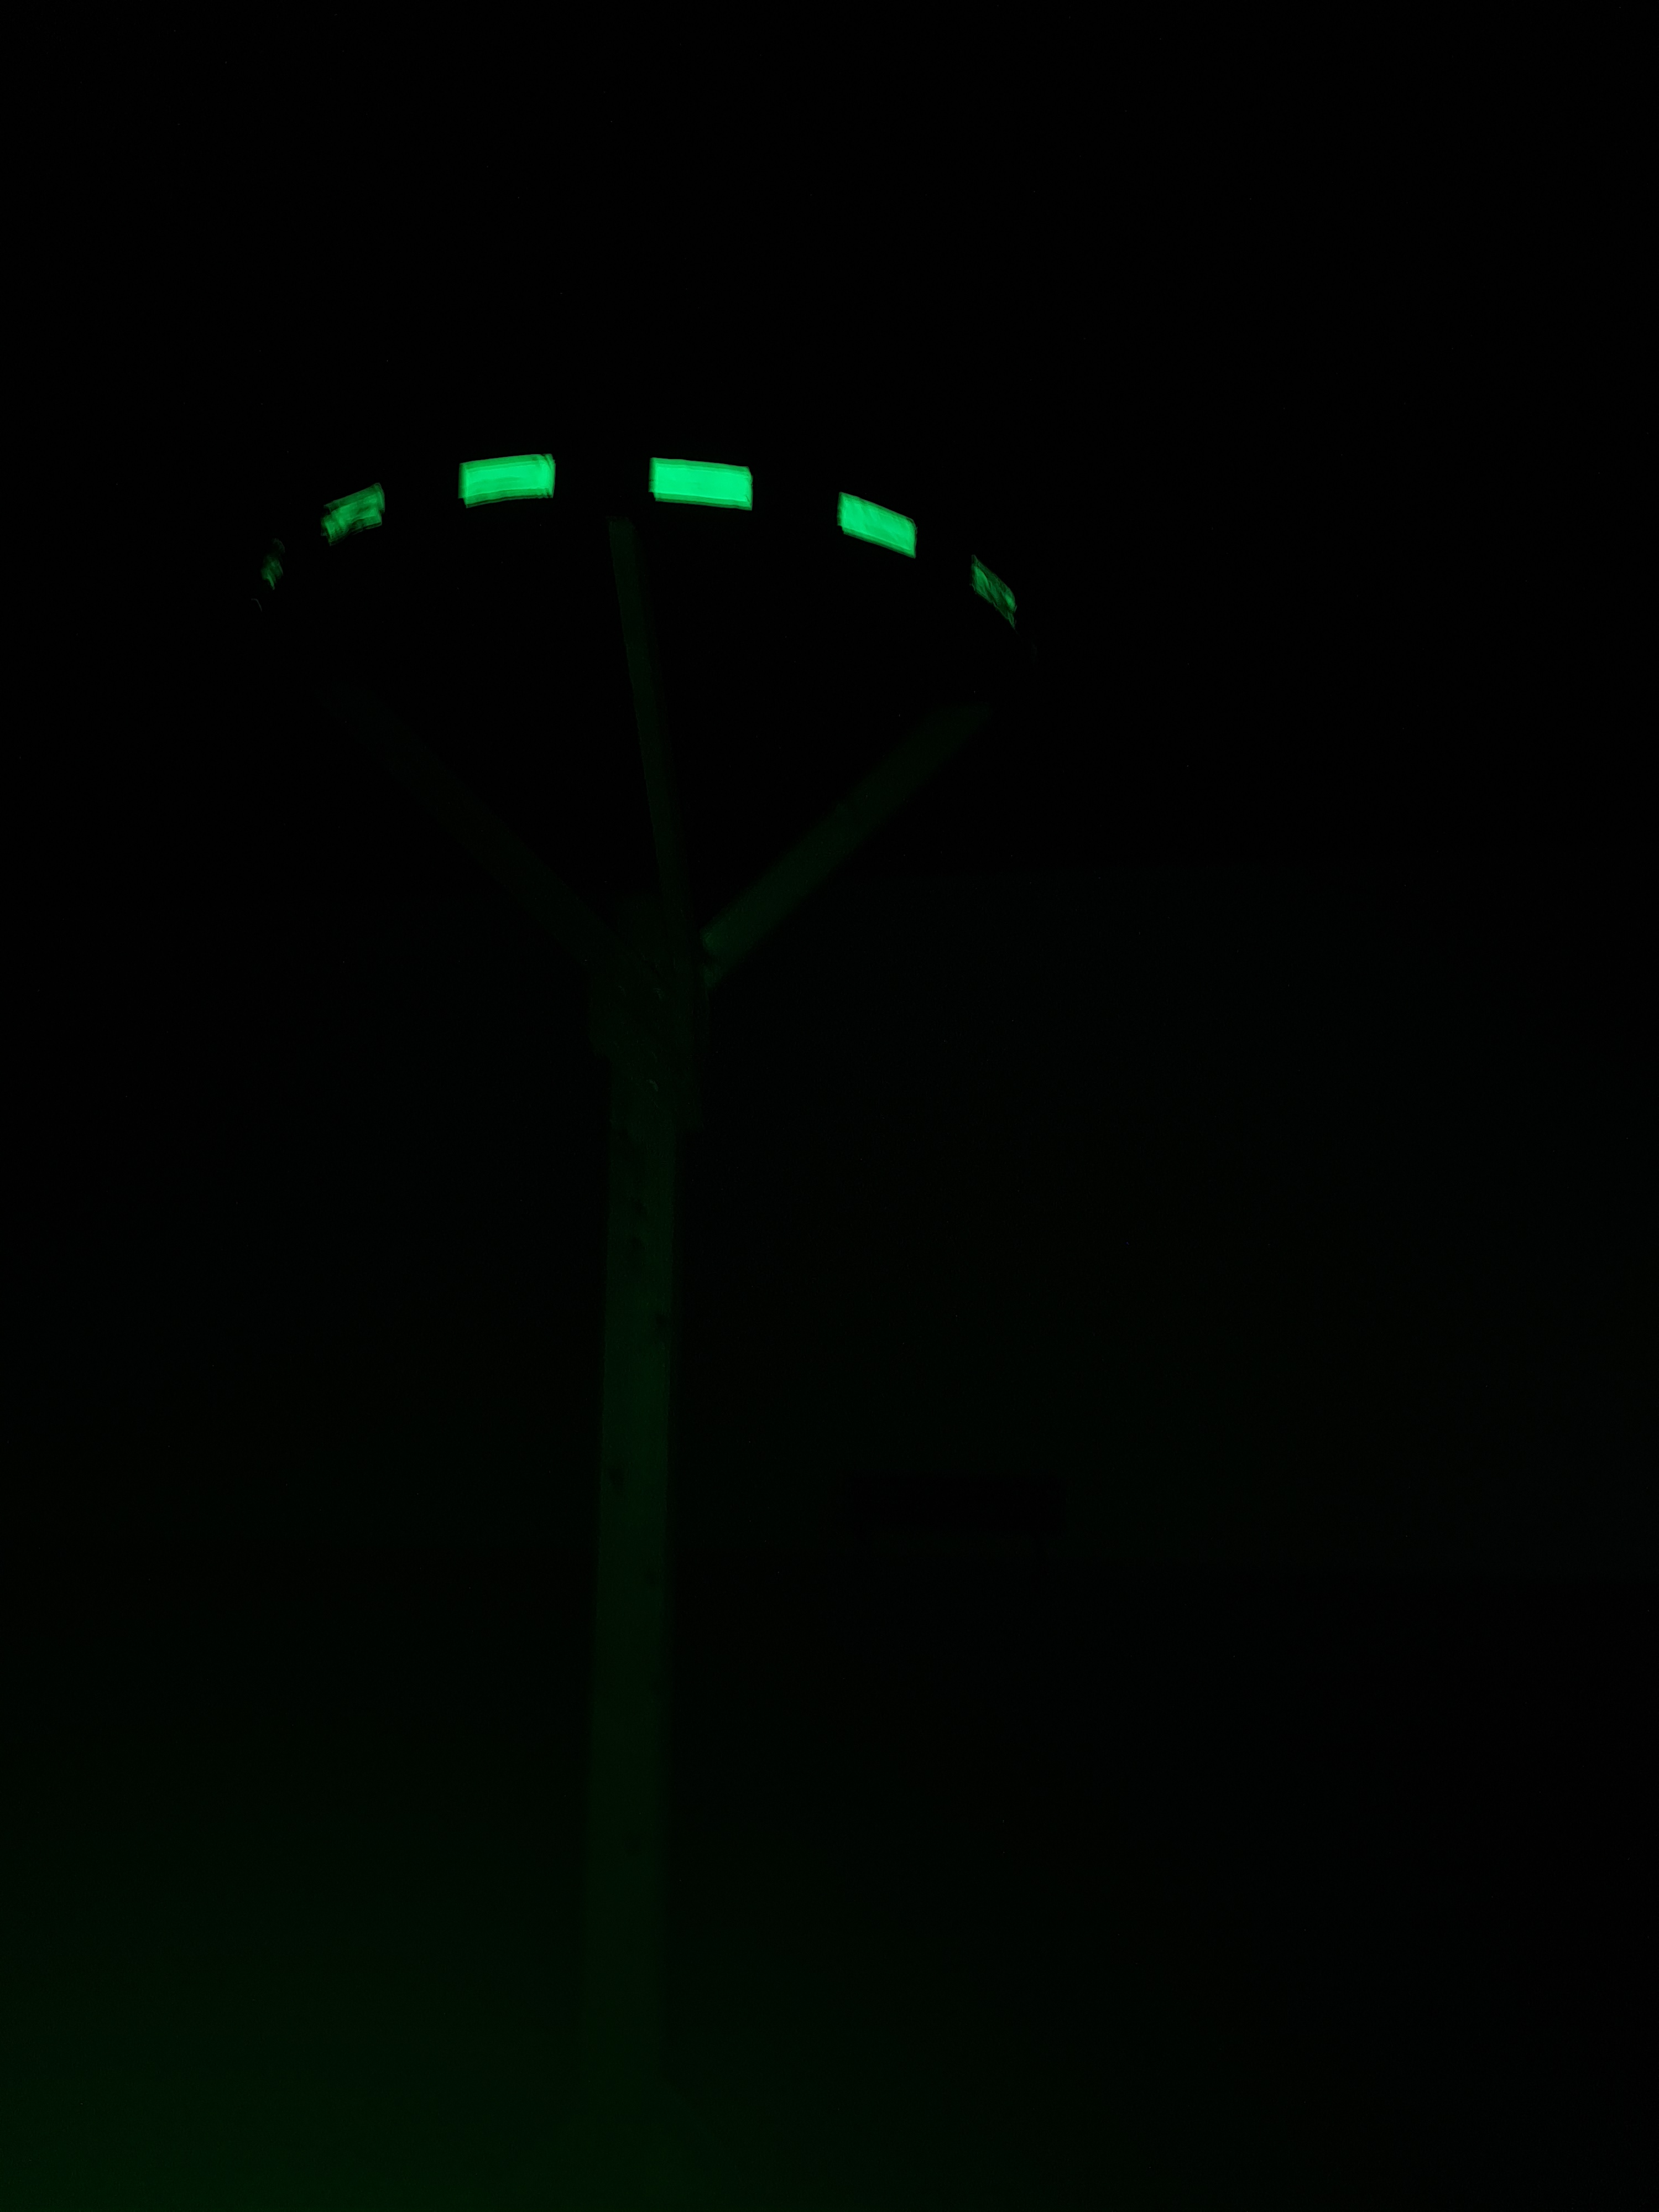hoop: (324, 449, 1018, 624)
